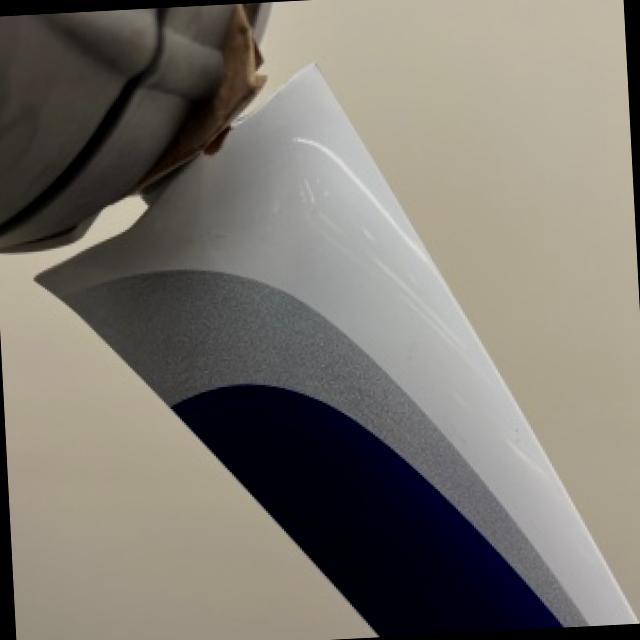healthy: (38, 66, 635, 635), (0, 244, 373, 640)
